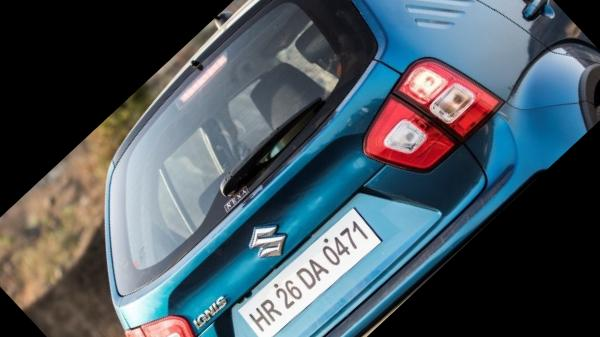plate: (239, 203, 380, 337)
